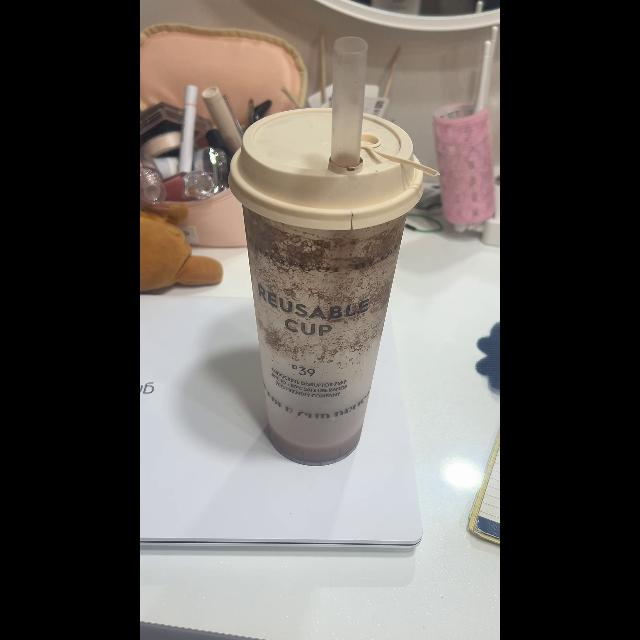dirty: (245, 106, 400, 464)
